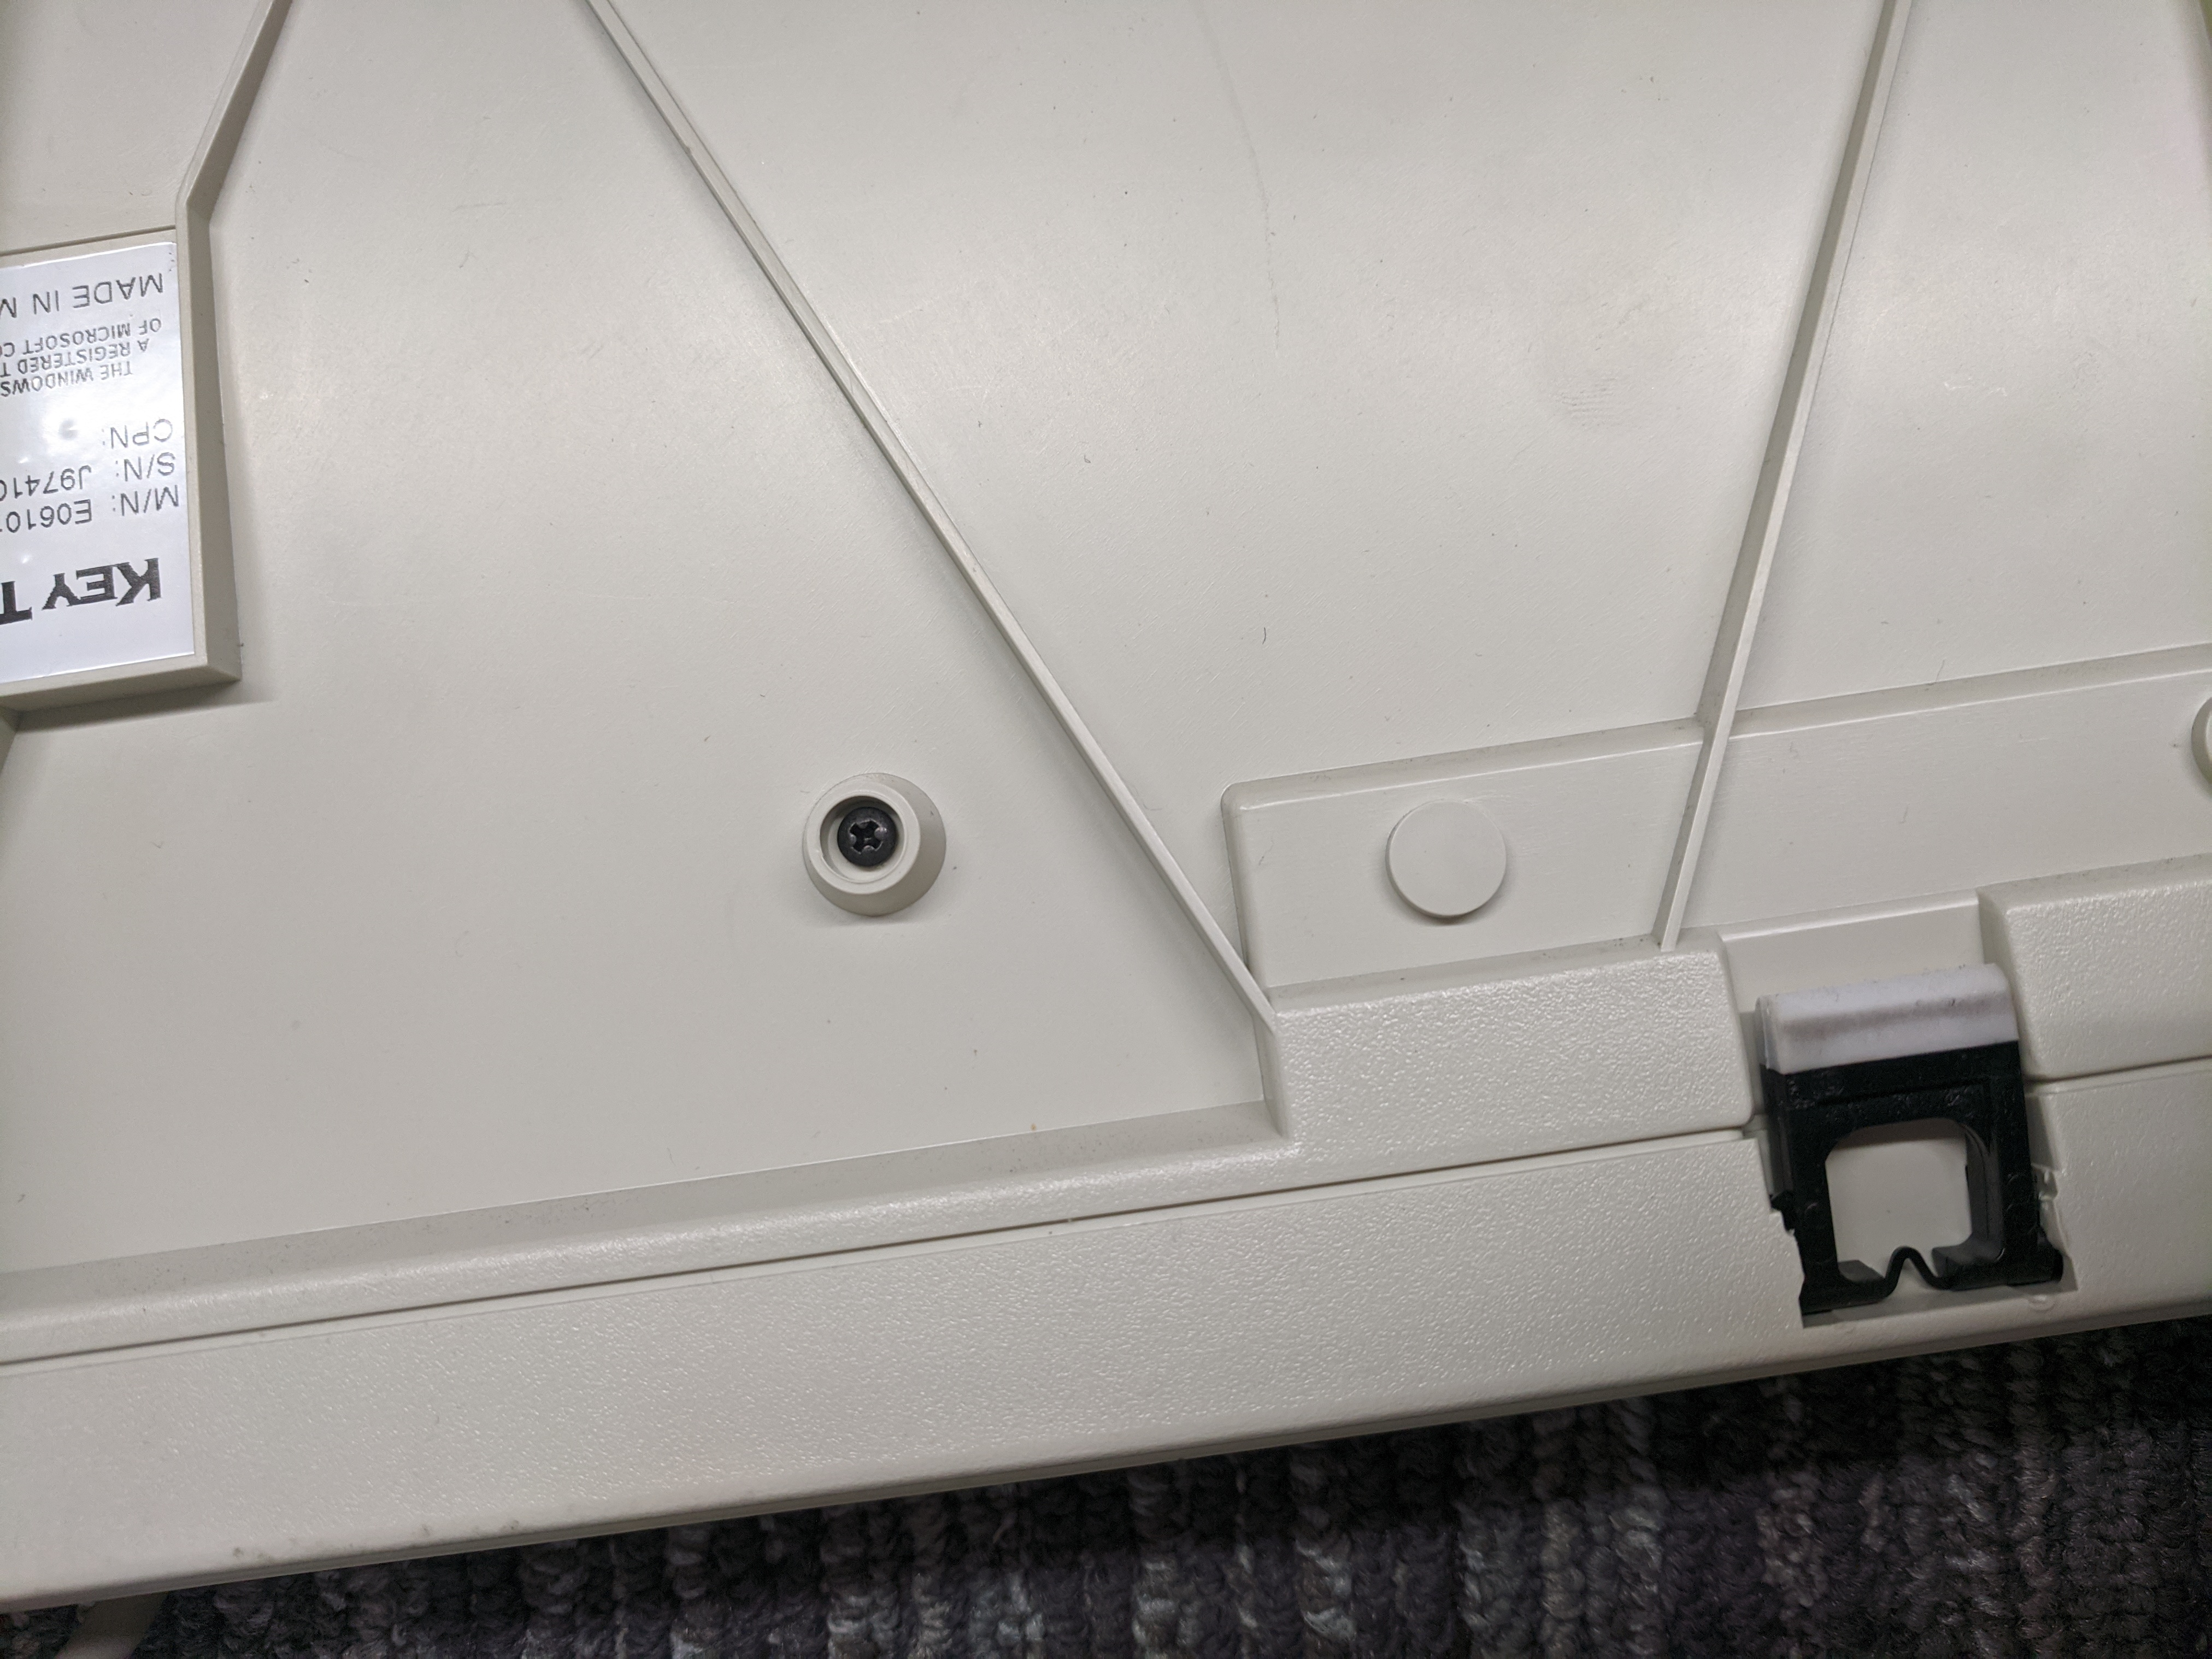cross_recessed_screw: (822, 789, 920, 880)
